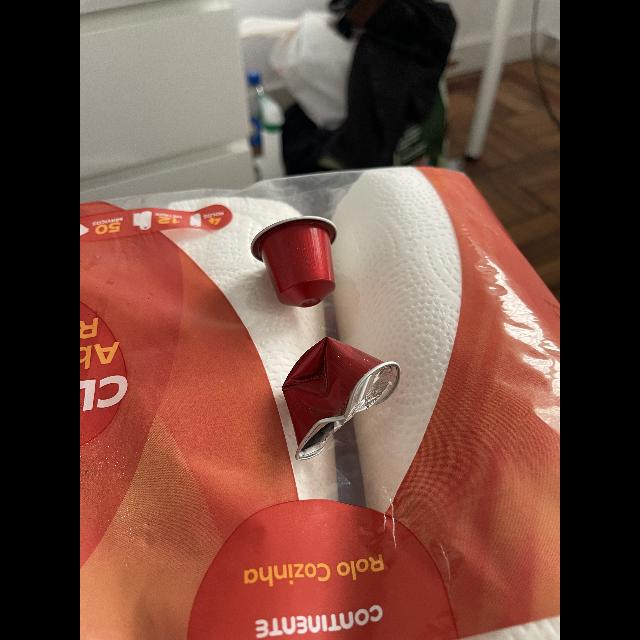damaged_capsule: (275, 328, 397, 466)
intact_capsule: (240, 214, 354, 310)
